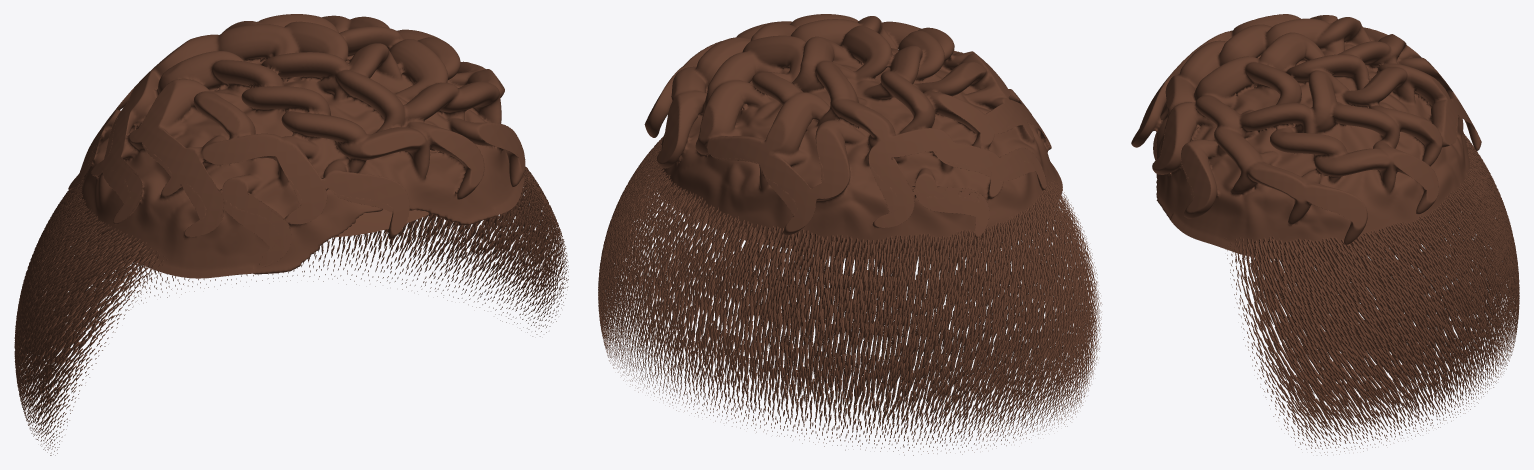
The model's file is Masculine-curly-top-beanie254-hair.glb.
The picture shows the model from 3 angles, left to right: view 1: azimuth 30°, elevation 25°; view 2: azimuth 150°, elevation 25°; view 3: azimuth 270°, elevation 25°; orthographic projection. The views are drawn at different scales.
Visible parts, largest first — view 1: 226 hair / Hair252 / sculpted curl groups, 226 hair / Hair254 / rooted short groom; view 2: 226 hair / Hair254 / rooted short groom, 226 hair / Hair252 / sculpted curl groups; view 3: 226 hair / Hair252 / sculpted curl groups, 226 hair / Hair254 / rooted short groom.
Boxes of the visible parts, x1=… form: 226 hair / Hair252 / sculpted curl groups: x1=68, y1=14, x2=525, y2=278; 226 hair / Hair254 / rooted short groom: x1=14, y1=166, x2=568, y2=455; 226 hair / Hair254 / rooted short groom: x1=598, y1=136, x2=1102, y2=455; 226 hair / Hair252 / sculpted curl groups: x1=644, y1=14, x2=1062, y2=258; 226 hair / Hair252 / sculpted curl groups: x1=1131, y1=14, x2=1481, y2=258; 226 hair / Hair254 / rooted short groom: x1=1153, y1=132, x2=1519, y2=455.
Size of the model in its own units: 0.9716 by 0.6616 by 0.7434.
